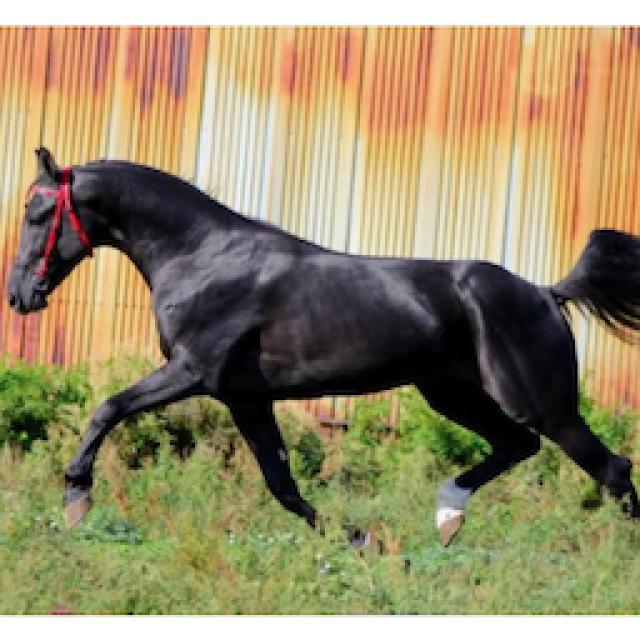Horse: (0, 140, 638, 550)
